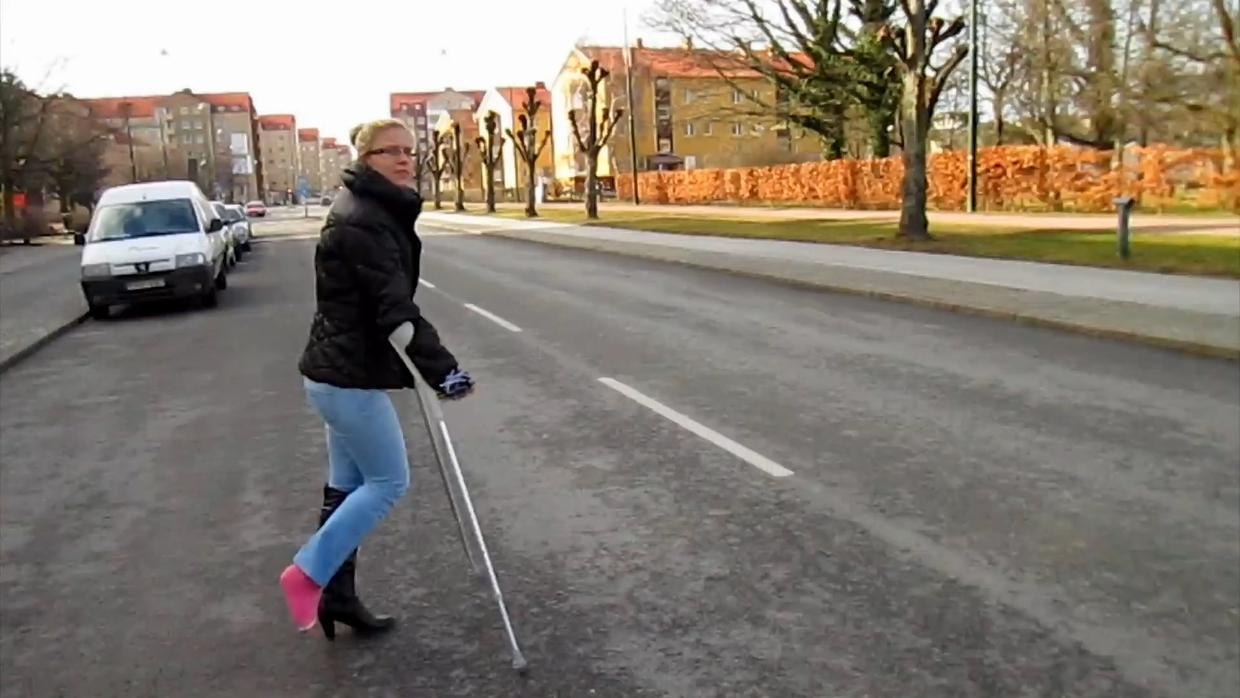crutches: (280, 120, 532, 671)
